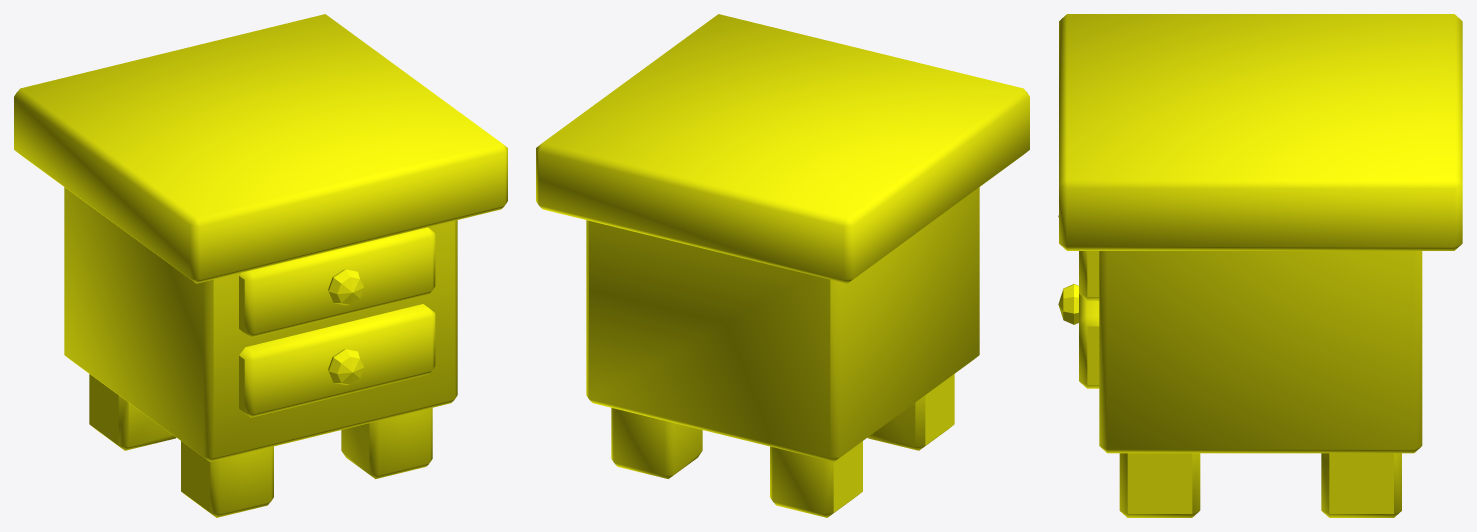
File: kaykit-cabinet-small.glb
3 renders of one model, left to right at view 1: azimuth 30°, elevation 25°; view 2: azimuth 150°, elevation 25°; view 3: azimuth 270°, elevation 25°, orthographic. The views are drawn at different scales.
Visible parts, largest first — view 1: cabinet_small; view 2: cabinet_small; view 3: cabinet_small.
Boxes of the visible parts, box(x1,y1,x2,y2) form: cabinet_small: box(14, 14, 507, 517); cabinet_small: box(536, 14, 1029, 517); cabinet_small: box(1058, 14, 1462, 517).
Size of the model in its own units: 1 by 1 by 1.
